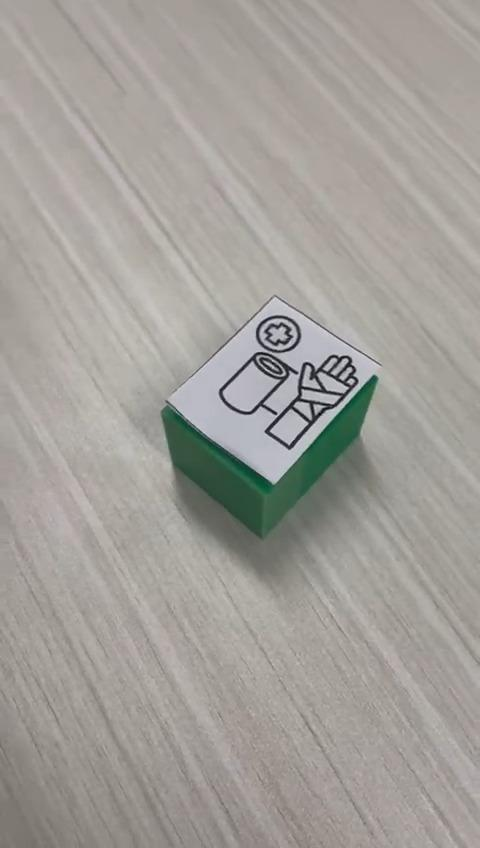Bandages: (160, 296, 383, 541)
